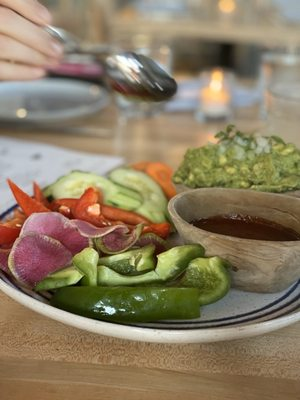sushi: (0, 158, 294, 340)
